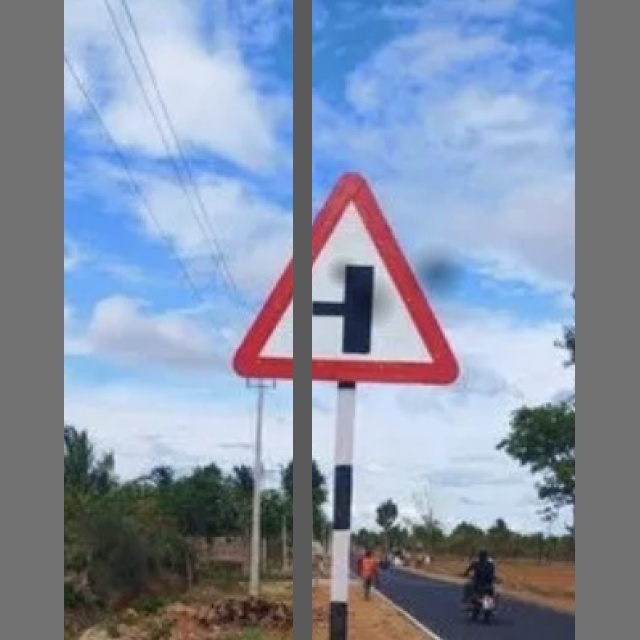Side_Road_Left: (232, 181, 468, 391)
